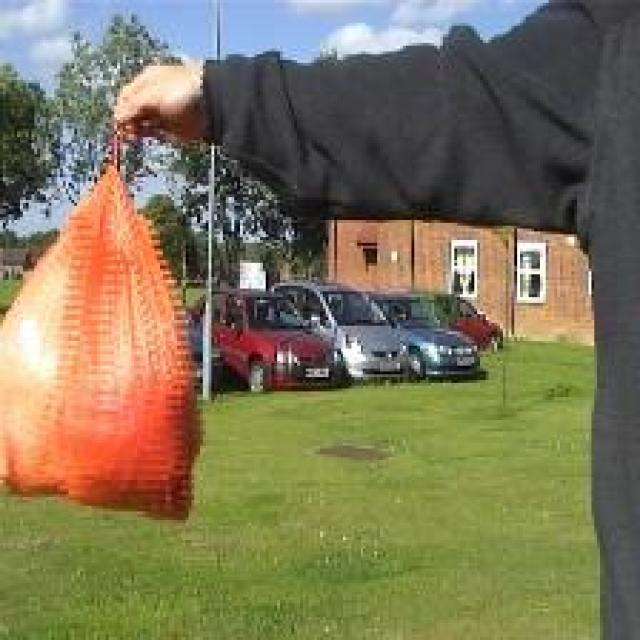other: (8, 152, 228, 530)
